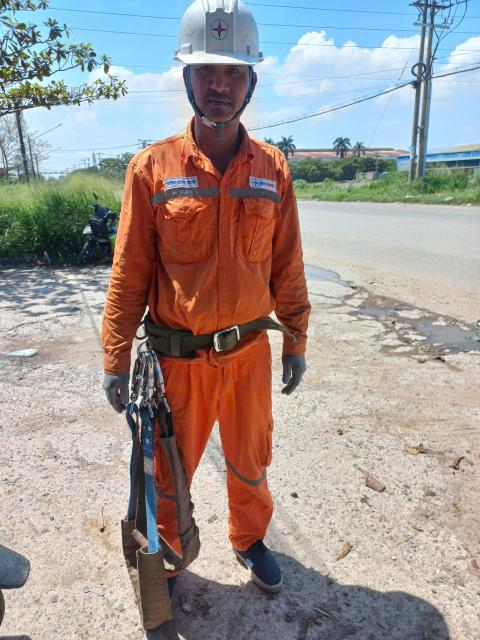gloves: (99, 356, 141, 427), (266, 339, 318, 392)
harness: (111, 292, 291, 370)
helmet: (164, 0, 291, 84)
shoes: (230, 523, 289, 598)
